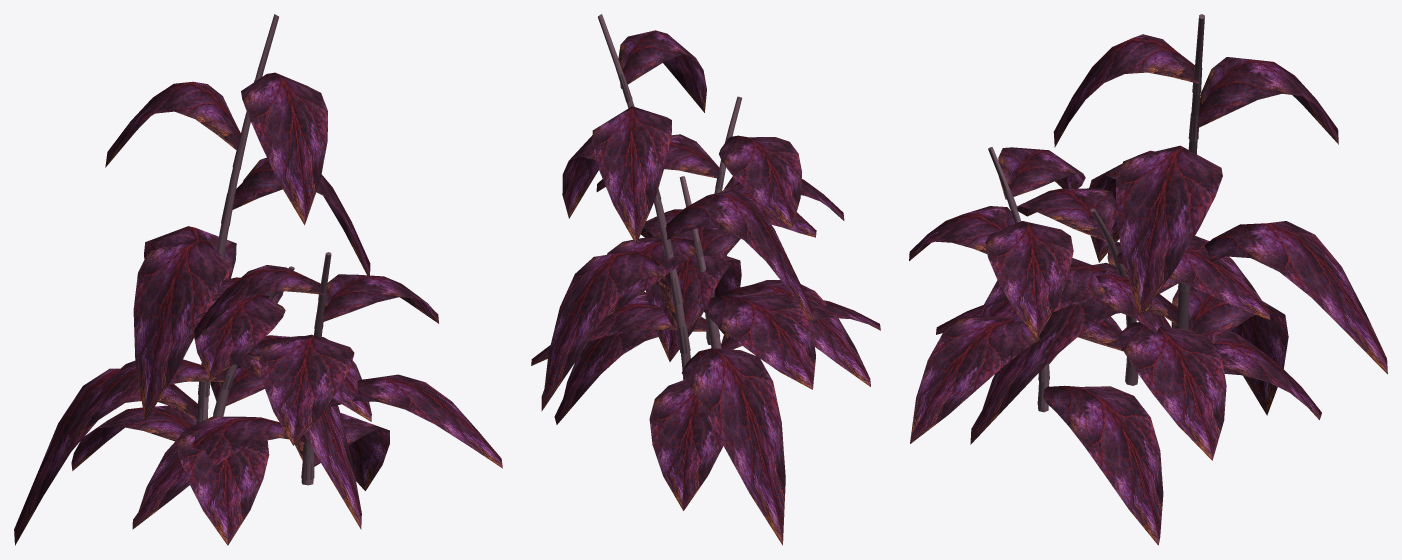
The model's file is broadgrass_04.glb.
3 renders of one model, left to right at view 1: azimuth 30°, elevation 25°; view 2: azimuth 150°, elevation 25°; view 3: azimuth 270°, elevation 25°, orthographic. The views are drawn at different scales.
Parts seen in each view (by area): view 1: export; view 2: export; view 3: export.
Part boxes in pixels (left/top/right/bottom): export: left=14, top=14, right=502, bottom=545; export: left=531, top=14, right=880, bottom=545; export: left=909, top=14, right=1387, bottom=545.
Size of the model in its own units: 0.6803 by 1.03 by 0.8615.
Materials: 2 (2 with a texture image).
